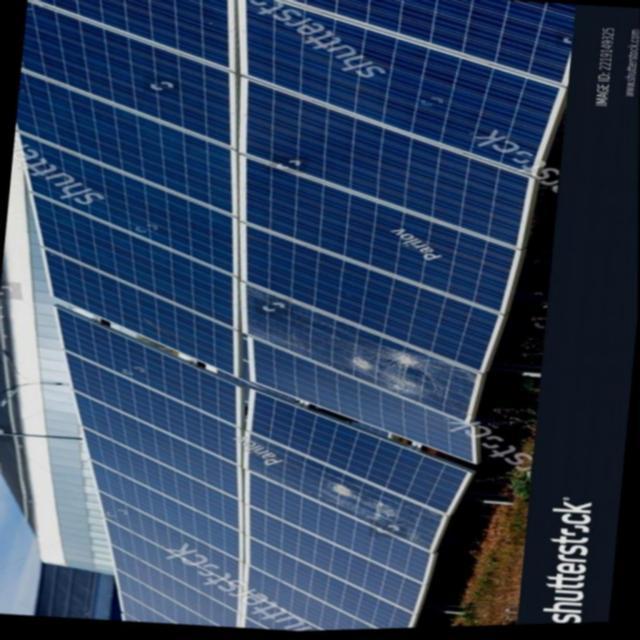cracked: (242, 282, 489, 414), (252, 438, 448, 554)
